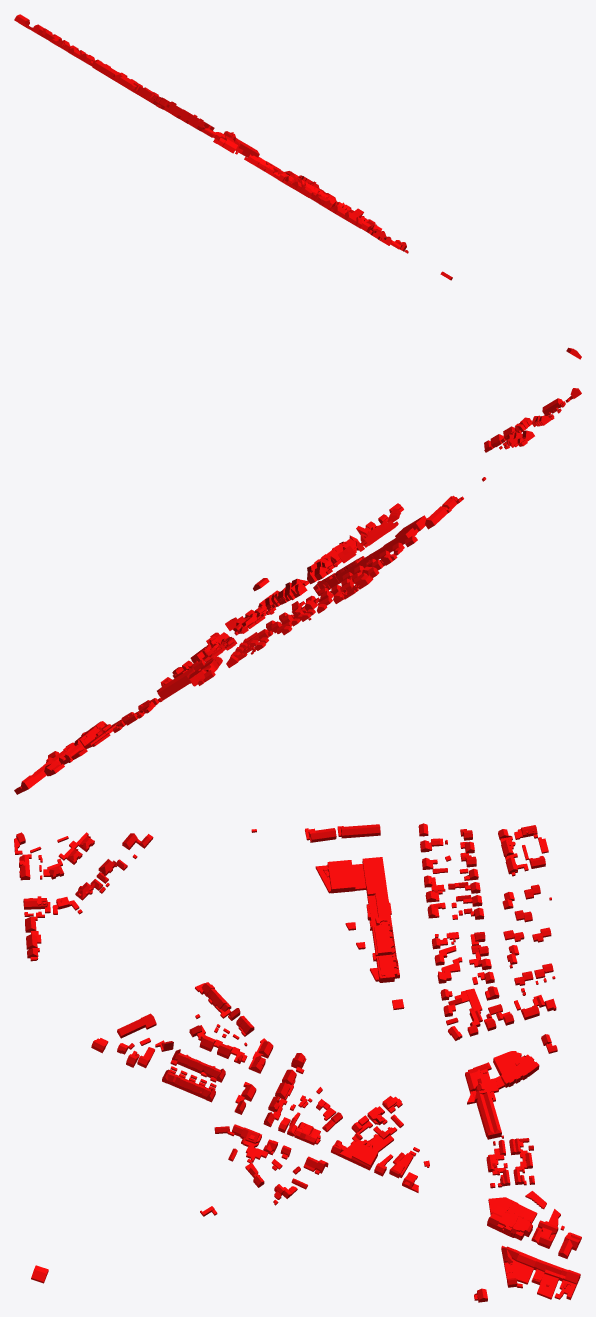
The picture shows the model from 3 angles, top to bottom: view 1: azimuth 30°, elevation 25°; view 2: azimuth 150°, elevation 25°; view 3: azimuth 270°, elevation 25°; orthographic projection. The views are drawn at different scales.
Visible parts, largest first — view 1: mesh; view 2: mesh; view 3: mesh.
Boxes of the visible parts, x1=… form: mesh: x1=14, y1=14, x2=581, y2=359; mesh: x1=14, y1=388, x2=581, y2=794; mesh: x1=14, y1=823, x2=581, y2=1302.
Size of the model in its own units: 401 by 322 by 535.
